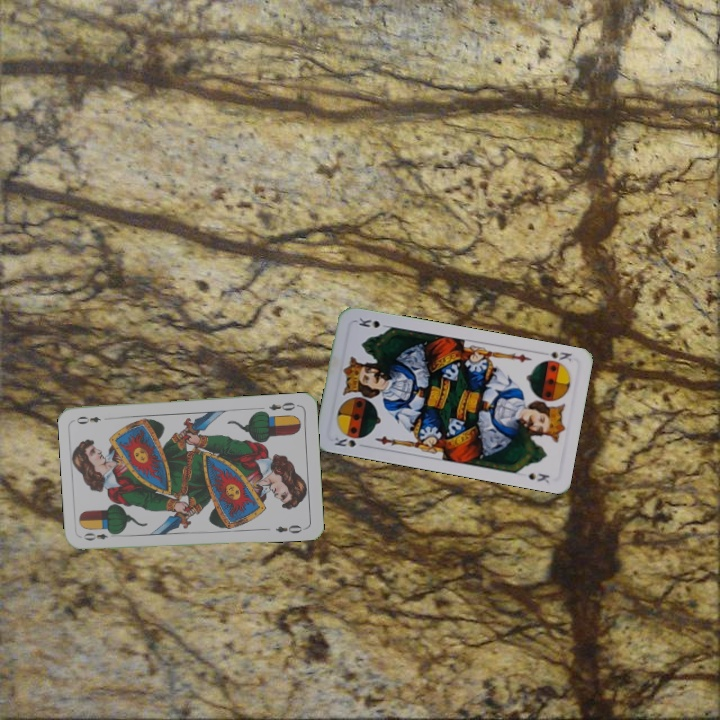EO: (80, 527, 119, 543), (265, 398, 301, 413)
SK: (537, 348, 574, 364), (330, 433, 358, 450)
